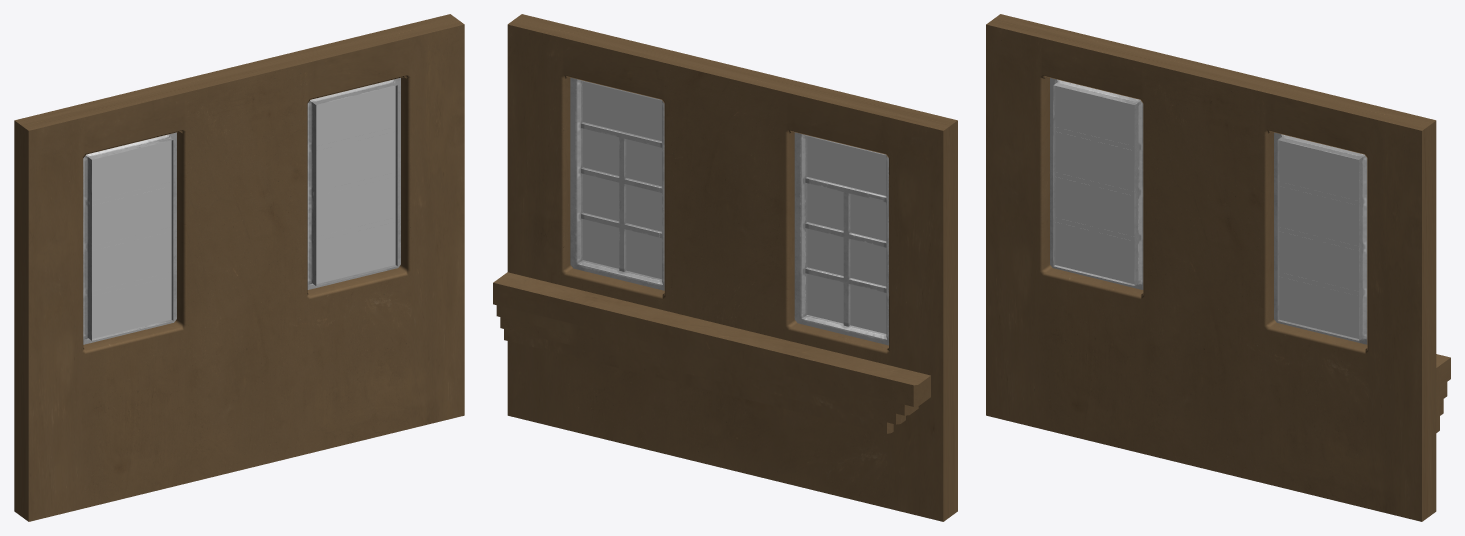
File: SM_Building02Wall02R.fbx
3 renders of one model, left to right at view 1: azimuth 30°, elevation 25°; view 2: azimuth 150°, elevation 25°; view 3: azimuth 330°, elevation 25°, orthographic.
Parts seen in each view (by area): view 1: SM_Building02Wall02R_LOD0; view 2: SM_Building02Wall02R_LOD0; view 3: SM_Building02Wall02R_LOD0.
Boxes of the visible parts, bbox=[...] form: SM_Building02Wall02R_LOD0: bbox=[14, 14, 464, 521]; SM_Building02Wall02R_LOD0: bbox=[493, 14, 957, 521]; SM_Building02Wall02R_LOD0: bbox=[986, 14, 1450, 521].
Bounding box in the file's own units: 350 × 40 × 300.
4 materials, 3 textured.
